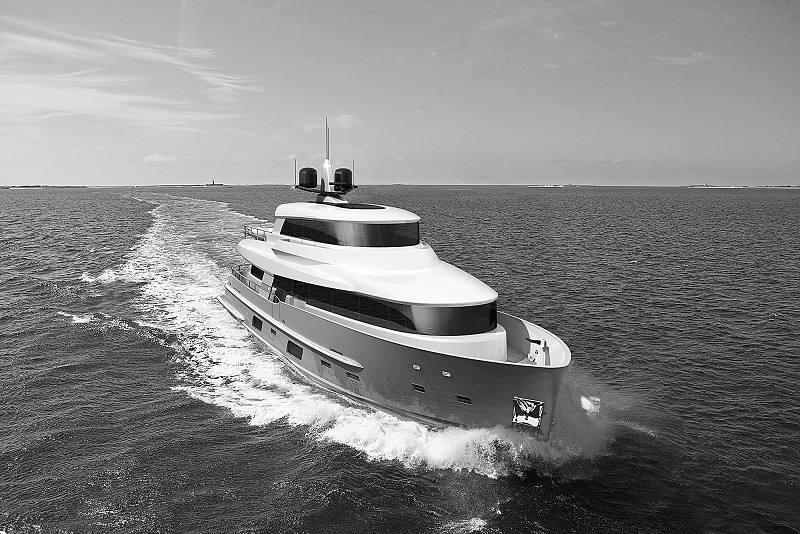yacht: (225, 119, 566, 445)
